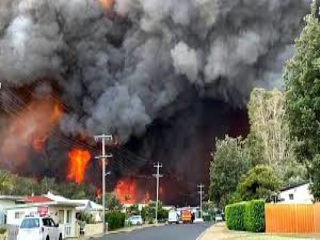fire: (112, 175, 154, 207), (60, 145, 93, 185)
smoke: (7, 6, 277, 145)
